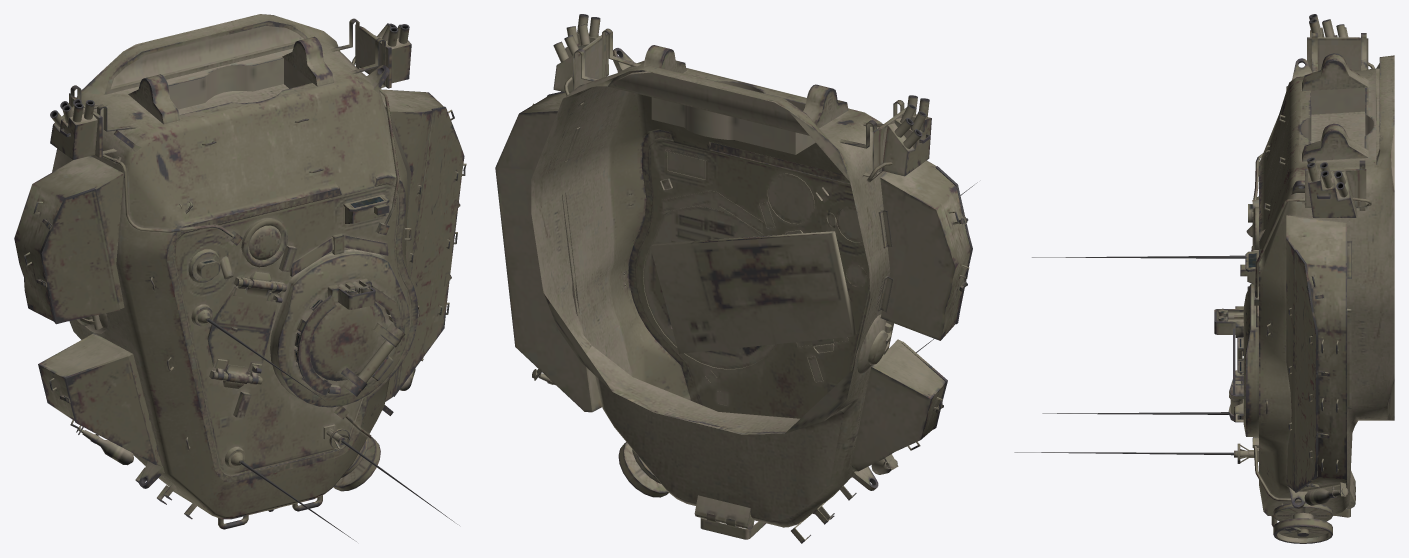
Rendered from Turret_02.glb.
3 renders of one model, left to right at view 1: azimuth 30°, elevation 25°; view 2: azimuth 150°, elevation 25°; view 3: azimuth 270°, elevation 25°, orthographic. The views are drawn at different scales.
Parts seen in each view (by area): view 1: set_0_group_0; view 2: set_0_group_0; view 3: set_0_group_0.
Boxes of the visible parts, x1,y1,x2,y2 form: set_0_group_0: (14, 14, 466, 541); set_0_group_0: (495, 14, 977, 543); set_0_group_0: (1014, 14, 1394, 543).
Size of the model in its own units: 3.37 by 3.24 by 2.71.
Materials: 1 (1 with a texture image).
